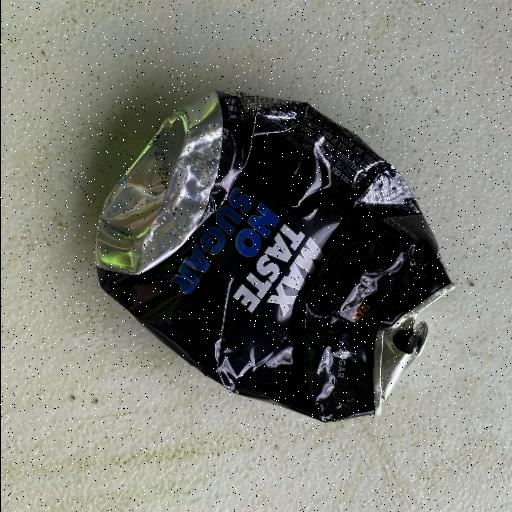Metal: (92, 88, 456, 424)
